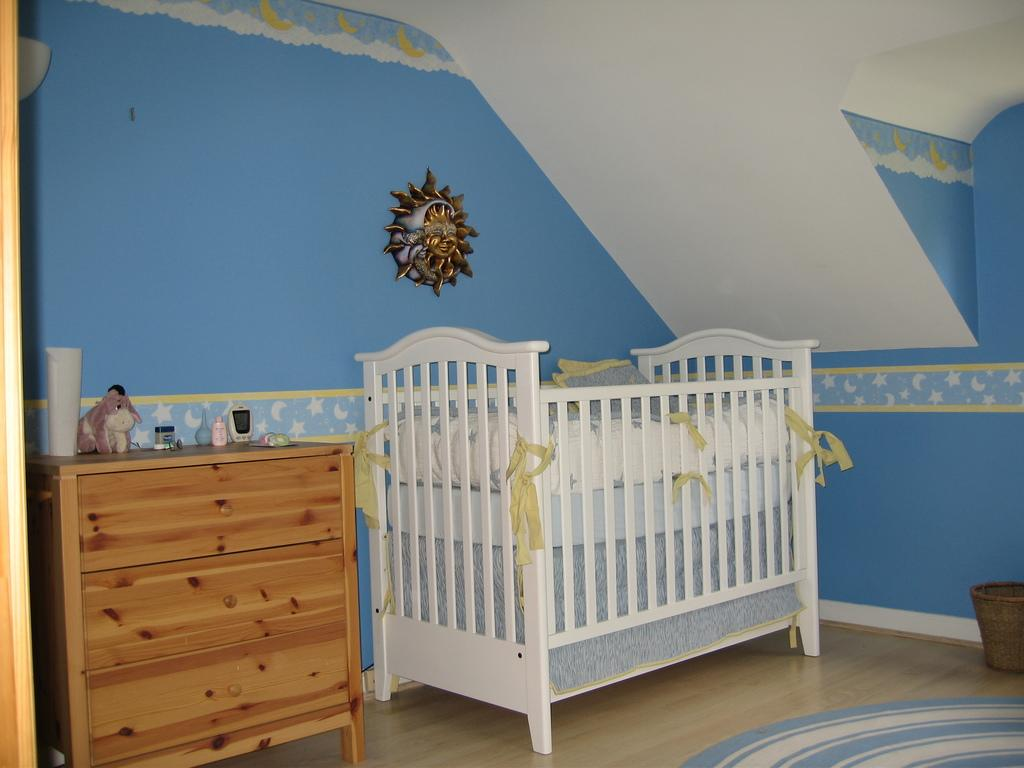cabinet_door: (94, 557, 344, 639), (97, 644, 348, 722), (82, 473, 338, 538)
handle: (220, 670, 247, 705), (220, 584, 242, 616), (216, 499, 234, 527)
